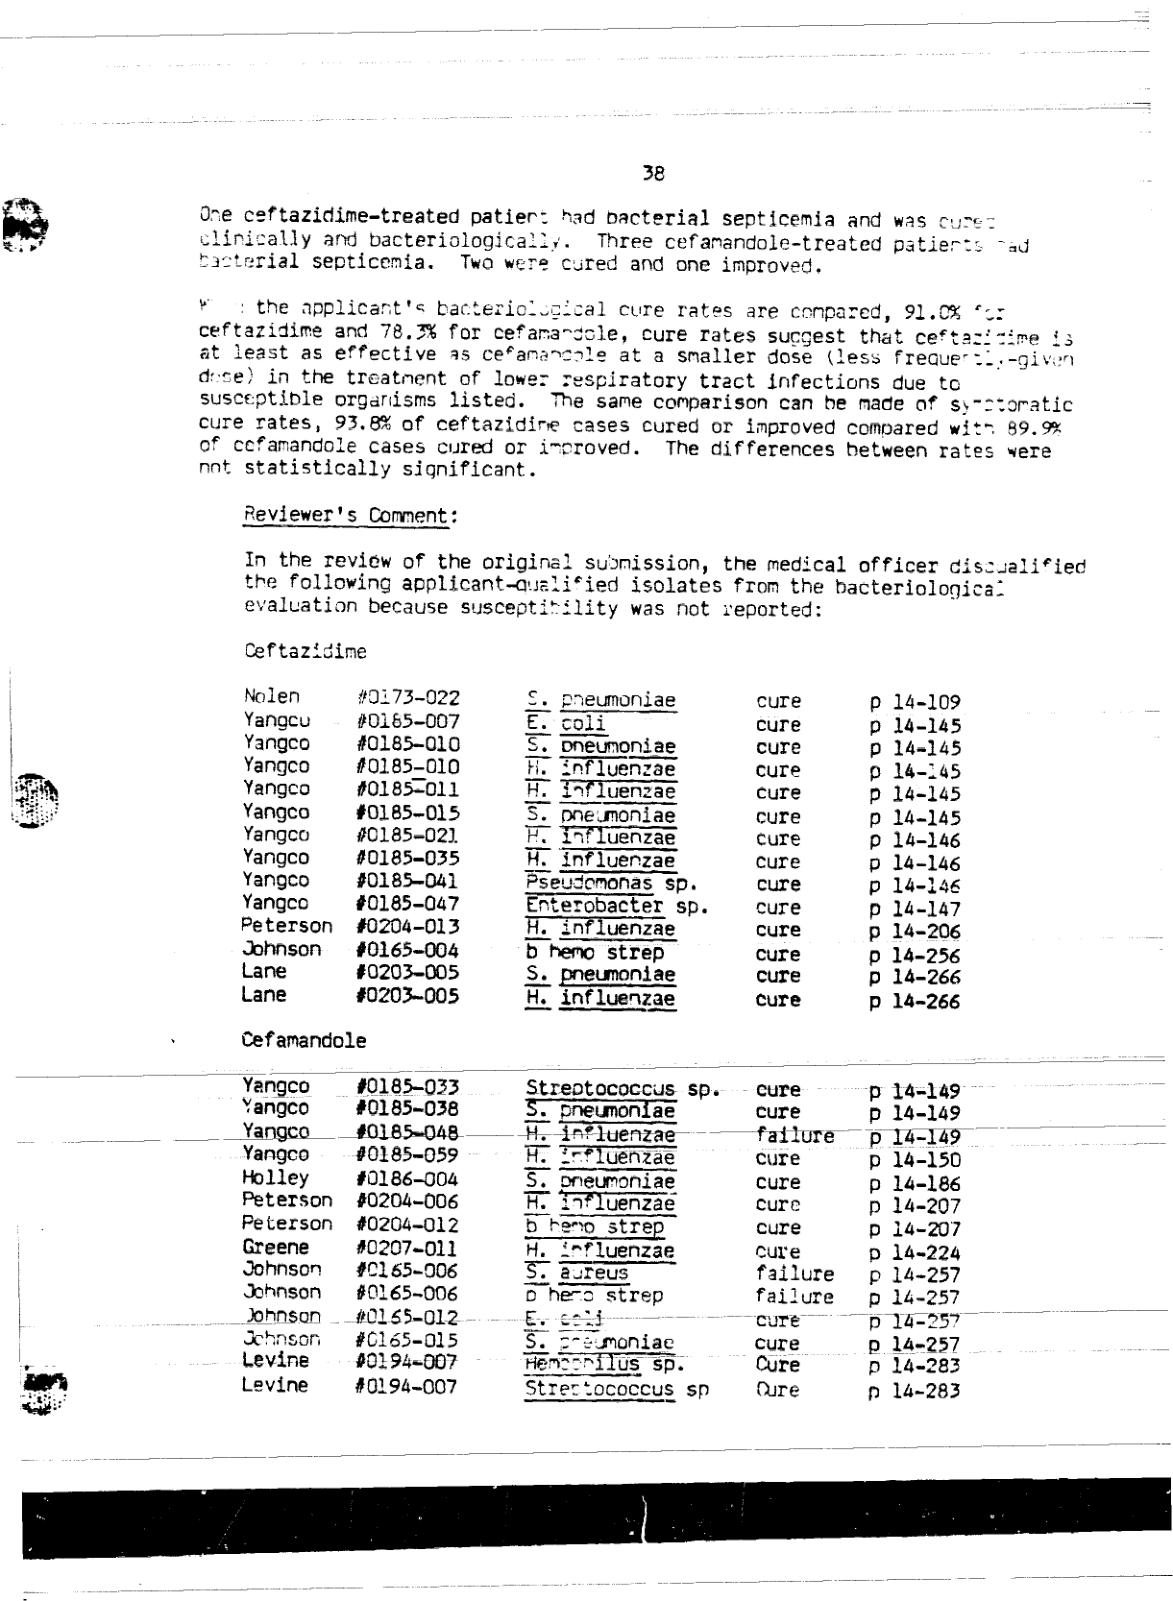nolines: (234, 1076, 967, 1401), (239, 686, 965, 1013)
